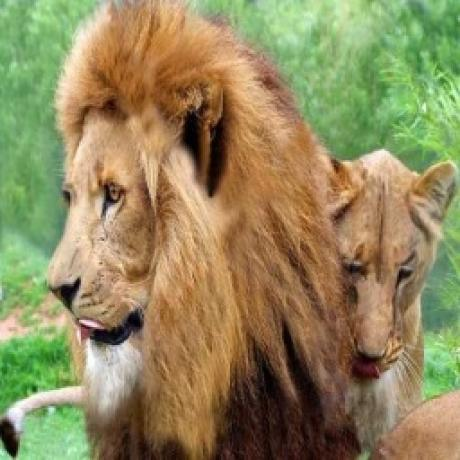Lion: (0, 0, 355, 460), (333, 147, 458, 405)
